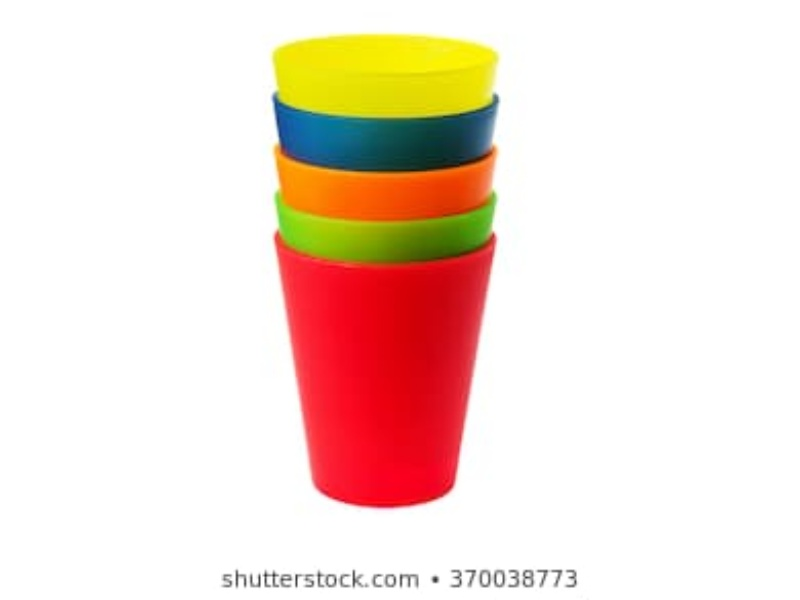plastic-cup: (276, 235, 509, 512), (266, 30, 502, 116), (265, 91, 507, 166), (264, 191, 508, 261), (268, 144, 508, 214)
